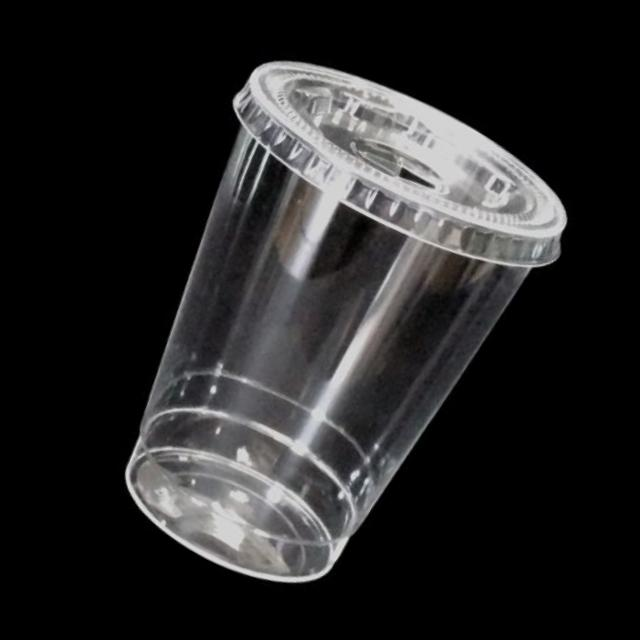GelasPlastik: (46, 24, 595, 640)
